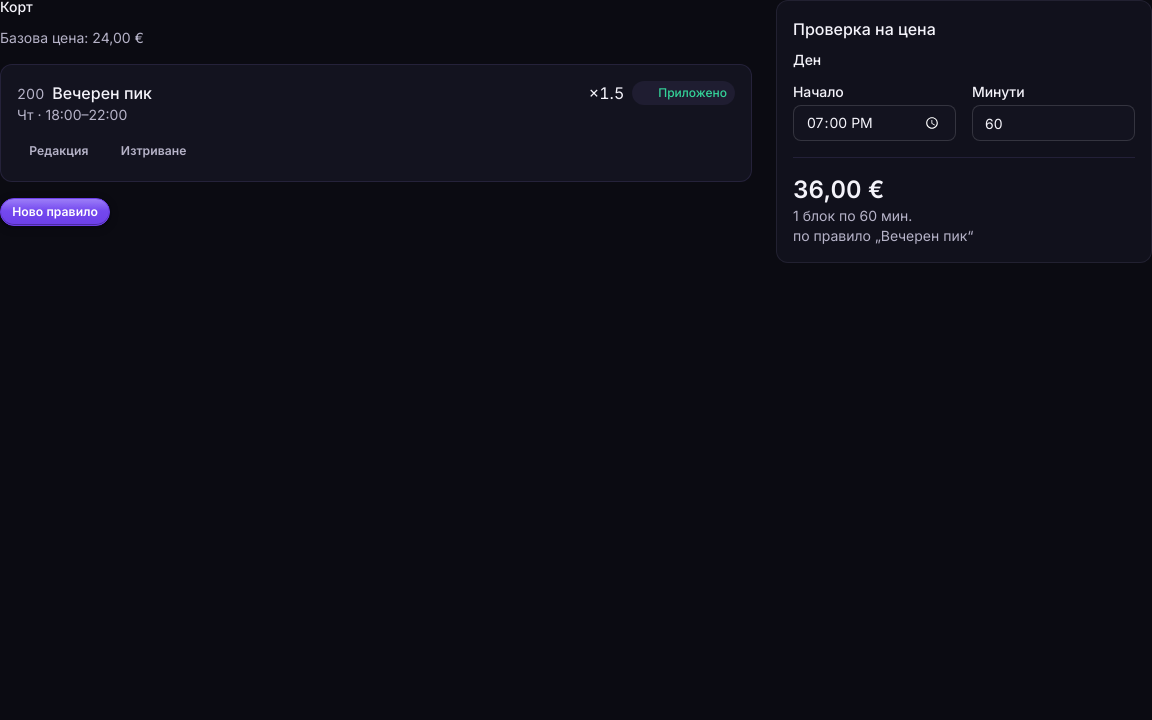
Test: PricingBoard › switching court shows that court’s rules
This screenshot has width=1152, height=720.
Expected: the text "Вечерен пик" is shown, [52,83,152,103]
Click the button "Корт": (16,7) [0,0,33,14]
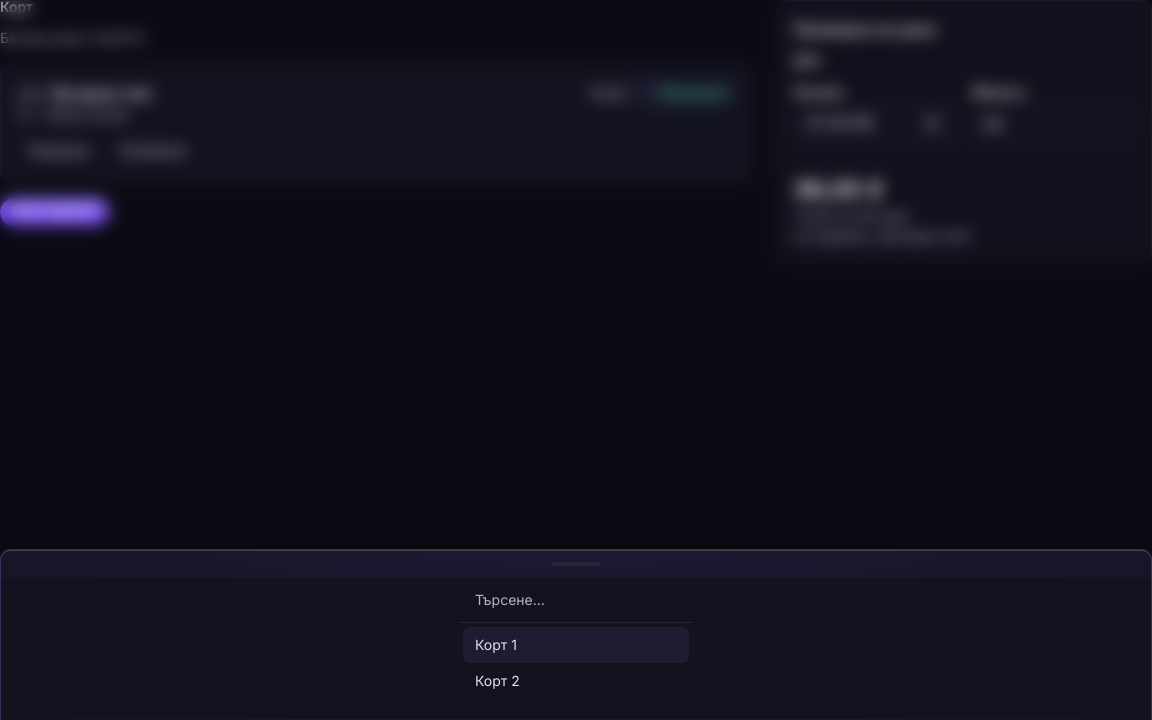
Click the option "Корт 2": (497,680) [475,672,520,689]
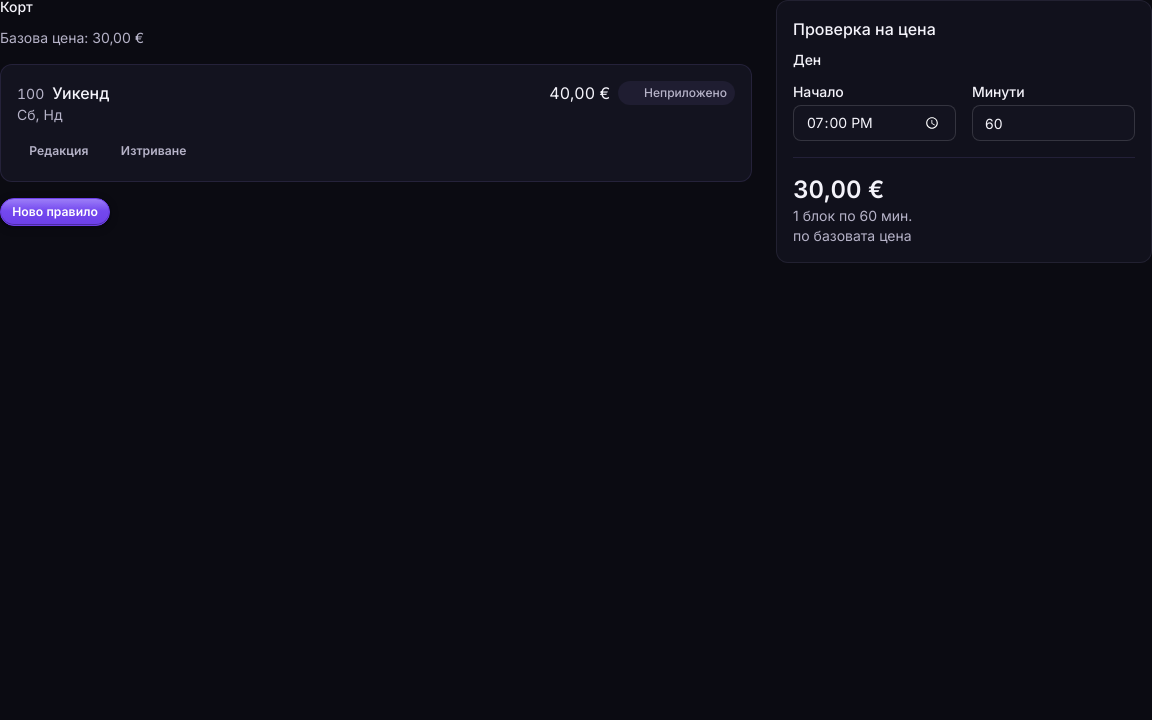
Expected: the text "Вечерен пик" is gone
Expected: the text "Уикенд" is shown, [52,83,109,103]
